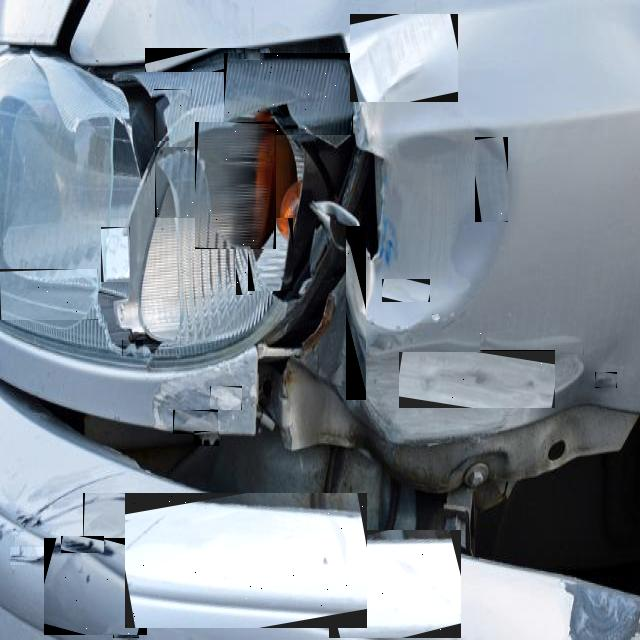Dent: (125, 493, 367, 628), (329, 530, 461, 638), (224, 53, 353, 135), (195, 122, 276, 249), (44, 538, 147, 635), (350, 14, 458, 102), (399, 352, 555, 408), (83, 493, 178, 547), (0, 269, 98, 320), (155, 148, 210, 220), (346, 226, 366, 400), (248, 218, 293, 291), (145, 48, 270, 72), (475, 137, 508, 222), (480, 333, 584, 358), (154, 89, 192, 141), (101, 227, 130, 282), (382, 279, 430, 302), (173, 410, 218, 434), (10, 547, 70, 565), (236, 244, 252, 298), (210, 386, 242, 410), (61, 536, 104, 553), (194, 431, 219, 446), (113, 624, 139, 638), (595, 372, 617, 388), (122, 340, 143, 356), (471, 370, 487, 383), (244, 50, 260, 61), (320, 568, 326, 577), (432, 314, 440, 320)
